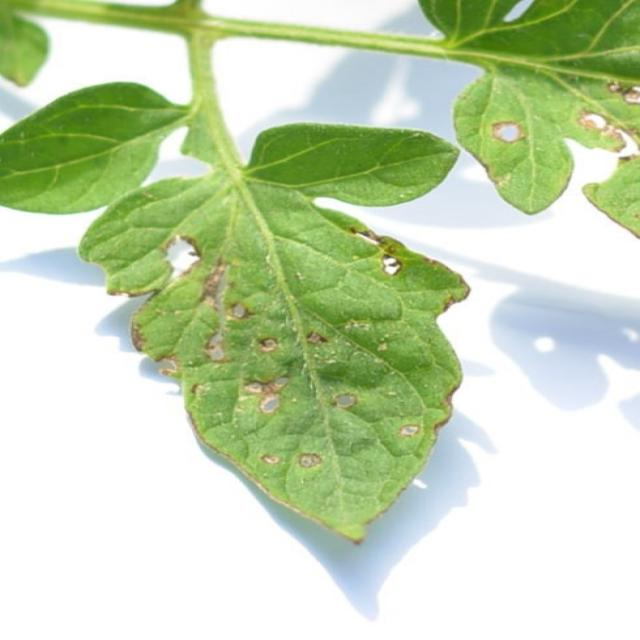infected: (120, 226, 478, 487), (456, 70, 640, 239)
